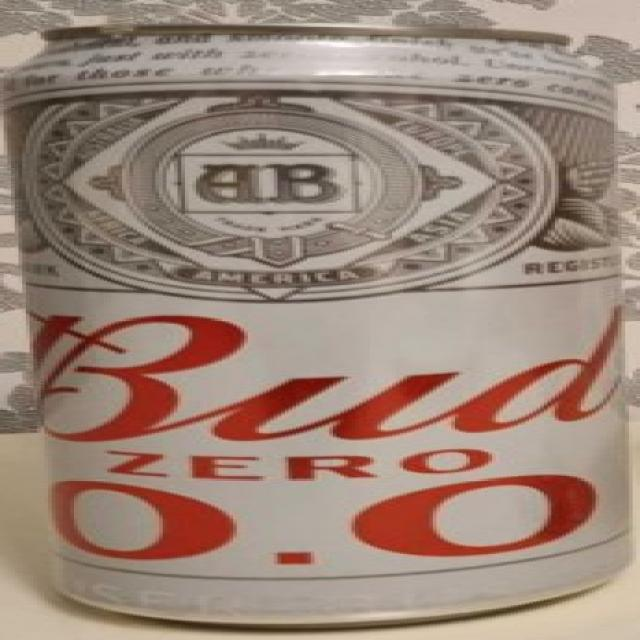Bud Zero: (3, 0, 640, 640)
